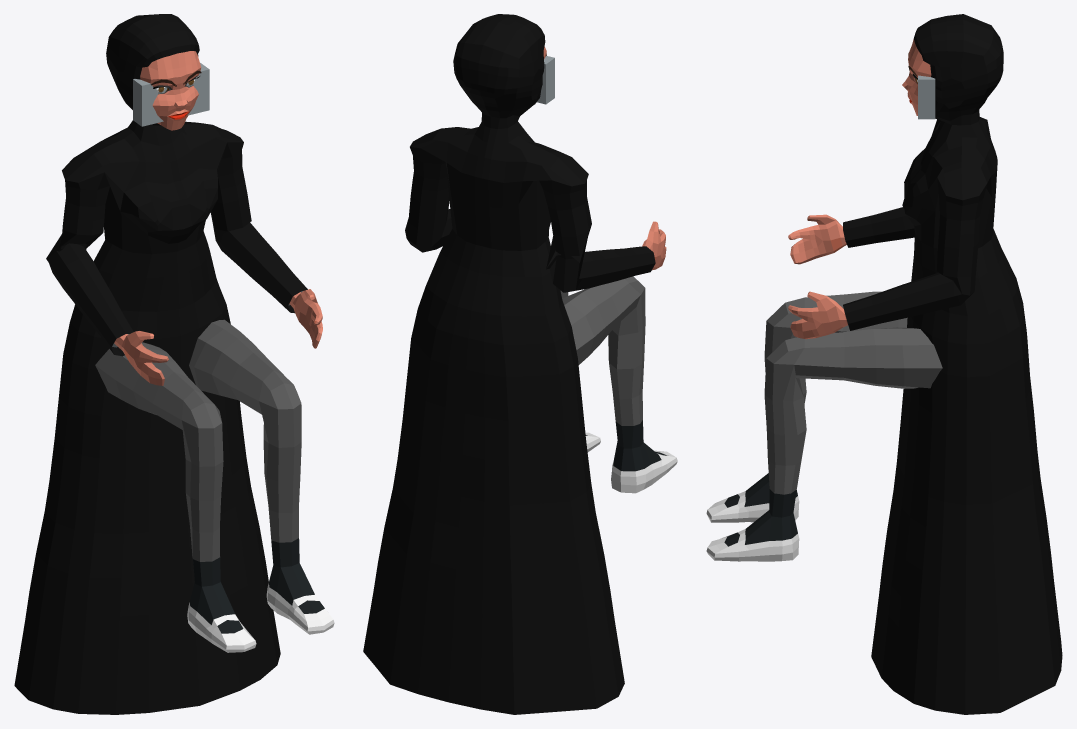
File: TeacherFemale_Sit_Mask.fbx
3 renders of one model, left to right at view 1: azimuth 30°, elevation 25°; view 2: azimuth 150°, elevation 25°; view 3: azimuth 270°, elevation 25°, orthographic. The views are drawn at different scales.
Parts seen in each view (by area): view 1: TeacherFemale_Sit_Mask; view 2: TeacherFemale_Sit_Mask; view 3: TeacherFemale_Sit_Mask.
Boxes of the visible parts, x1,y1,x2,y2 form: TeacherFemale_Sit_Mask: (14, 14, 334, 714); TeacherFemale_Sit_Mask: (363, 14, 677, 714); TeacherFemale_Sit_Mask: (706, 14, 1062, 714).
Bounding box in the file's own units: 0.3457 × 0.8807 × 0.446.
